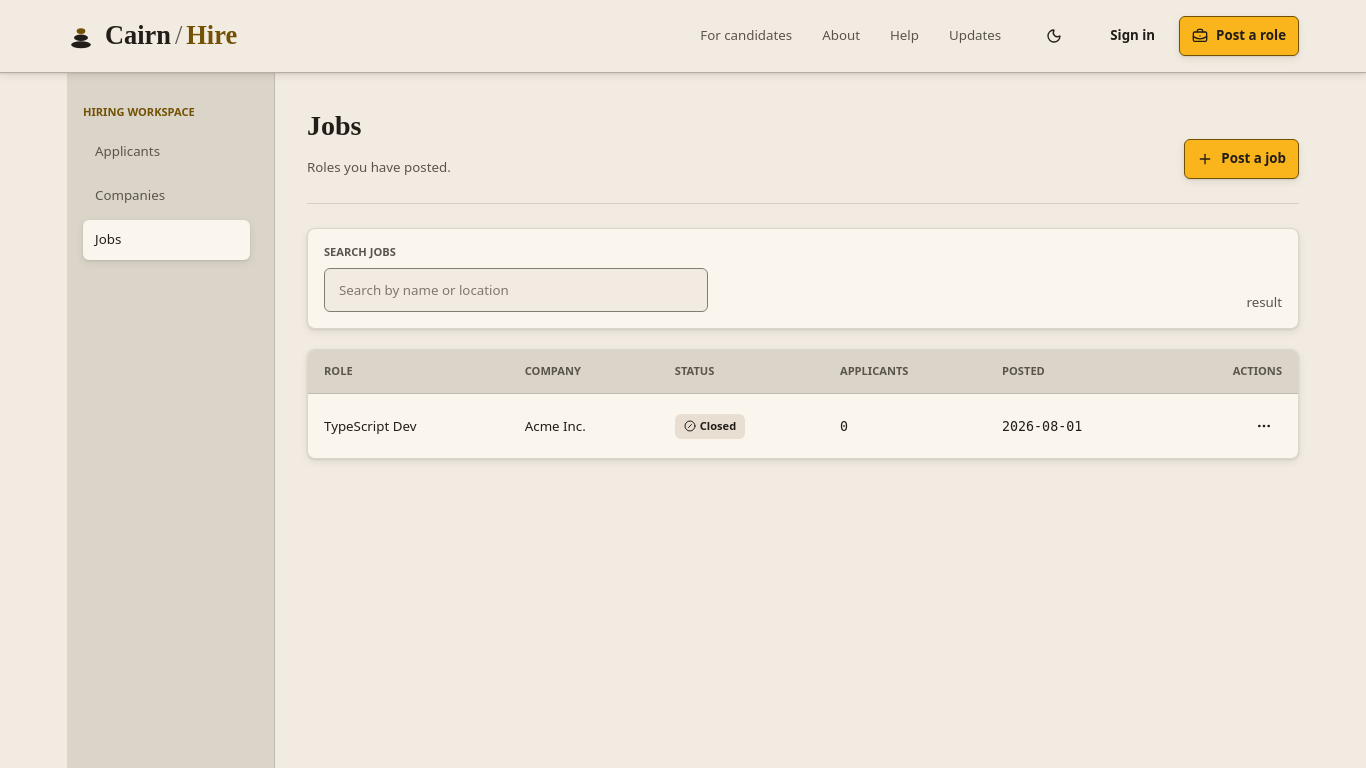
Scenario: the job lifecycle in the workspace › offers Reopen on a closed role instead of Close
The width and height of the screenshot is (1366, 768).
Click the button named "Actions for TypeScript Dev": (1264, 426) [1246, 408, 1282, 444]
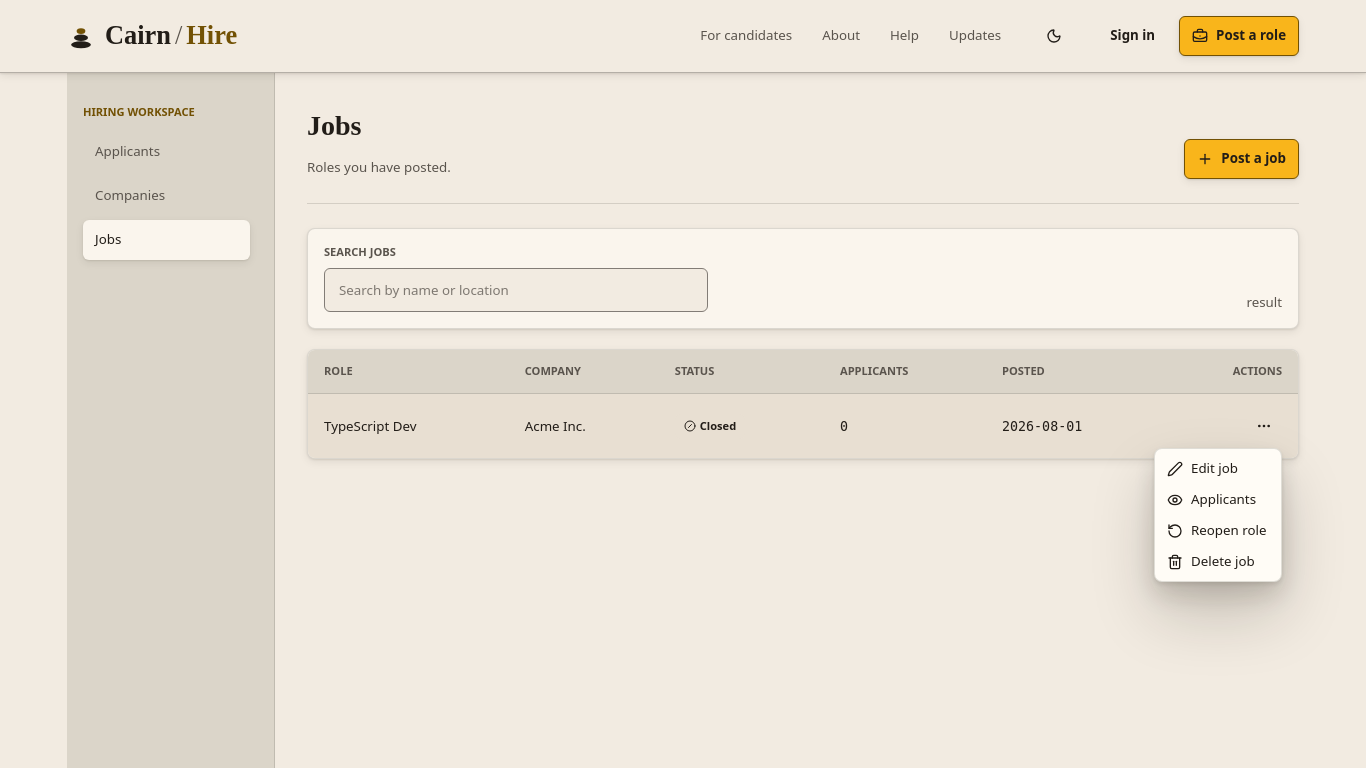
Check: the menu item "Reopen role" is shown, box [1167, 521, 1266, 539]
